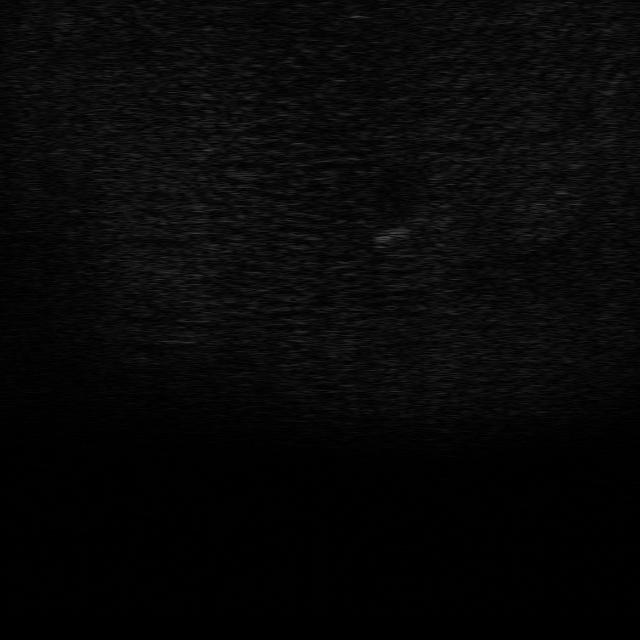plane: (364, 216, 428, 254)
